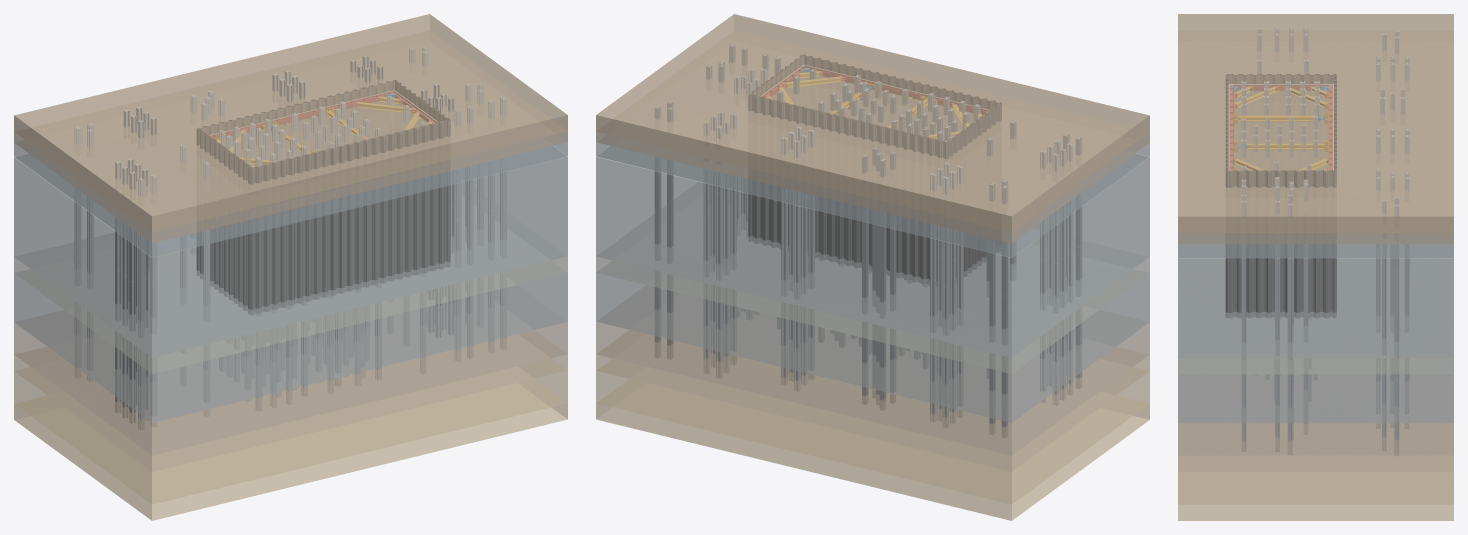
The model's file is sheetpile.glb.
3 renders of one model, left to right at view 1: azimuth 30°, elevation 25°; view 2: azimuth 150°, elevation 25°; view 3: azimuth 270°, elevation 25°, orthographic.
Parts seen in each view (by area): view 1: STS_L3b_SoftClay_-3.8_to_-13.0m, STS_L1_Fill_0_to_-1.5m, STS_L4_StiffClay_-19.0_to_-22.0m, STS_L3d_SoftClay_-14.5_to_-19.0m, STS_L2_MedStiffClay_-1.5_to_-2.5m, STS_L3c_SandLens_-13.0_to_-14.5m, STS_L6_MedSand_-23.5_to_-26.5m, STS_L7_DenseSand_-26.5_to_-28.0m, STS_L5_SandyClay_-22.0_to_-23.5m, STS_L3a_SoftClay_-2.5_to_-3.8m, Excavation_Stage1_L1_0_to_-1.5m, PILE_P90 (+19 smaller); view 2: STS_L3b_SoftClay_-3.8_to_-13.0m, STS_L1_Fill_0_to_-1.5m, STS_L3d_SoftClay_-14.5_to_-19.0m, STS_L4_StiffClay_-19.0_to_-22.0m, STS_L3c_SandLens_-13.0_to_-14.5m, STS_L2_MedStiffClay_-1.5_to_-2.5m, STS_L6_MedSand_-23.5_to_-26.5m, STS_L7_DenseSand_-26.5_to_-28.0m, STS_L5_SandyClay_-22.0_to_-23.5m, STS_L3a_SoftClay_-2.5_to_-3.8m, Excavation_Stage1_L1_0_to_-1.5m, Excavation_Stage2_L2_-1.5_to_-2.5m (+31 smaller); view 3: STS_L1_Fill_0_to_-1.5m, STS_L2_MedStiffClay_-1.5_to_-2.5m, STS_L3b_SoftClay_-3.8_to_-13.0m, STS_L3c_SandLens_-13.0_to_-14.5m, STS_L4_StiffClay_-19.0_to_-22.0m, STS_L3d_SoftClay_-14.5_to_-19.0m, STS_L6_MedSand_-23.5_to_-26.5m, STS_L7_DenseSand_-26.5_to_-28.0m, STS_L5_SandyClay_-22.0_to_-23.5m, Excavation_Stage1_L1_0_to_-1.5m, STS_L3a_SoftClay_-2.5_to_-3.8m, Excavation_Stage2_L2_-1.5_to_-2.5m (+33 smaller).
Part boxes in pixels (x1,y1,x2,y2): STS_L3b_SoftClay_-3.8_to_-13.0m: (14,146,567,357); STS_L1_Fill_0_to_-1.5m: (14,14,567,232); STS_L4_StiffClay_-19.0_to_-22.0m: (14,285,567,455); STS_L3d_SoftClay_-14.5_to_-19.0m: (14,261,567,422); STS_L2_MedStiffClay_-1.5_to_-2.5m: (14,31,567,243); STS_L3c_SandLens_-13.0_to_-14.5m: (14,182,567,373); STS_L6_MedSand_-23.5_to_-26.5m: (14,359,567,504); STS_L7_DenseSand_-26.5_to_-28.0m: (14,379,567,520); STS_L5_SandyClay_-22.0_to_-23.5m: (14,330,567,471); STS_L3a_SoftClay_-2.5_to_-3.8m: (14,134,567,257); Excavation_Stage1_L1_0_to_-1.5m: (200,81,447,167); PILE_P90: (454,109,461,361); STS_L3b_SoftClay_-3.8_to_-13.0m: (596,146,1149,357); STS_L1_Fill_0_to_-1.5m: (596,14,1149,232); STS_L3d_SoftClay_-14.5_to_-19.0m: (596,261,1149,422); STS_L4_StiffClay_-19.0_to_-22.0m: (596,285,1149,455); STS_L3c_SandLens_-13.0_to_-14.5m: (596,182,1149,373); STS_L2_MedStiffClay_-1.5_to_-2.5m: (596,31,1149,243); STS_L6_MedSand_-23.5_to_-26.5m: (596,359,1149,504); STS_L7_DenseSand_-26.5_to_-28.0m: (596,379,1149,520); STS_L5_SandyClay_-22.0_to_-23.5m: (596,330,1149,471); STS_L3a_SoftClay_-2.5_to_-3.8m: (596,135,1149,257); Excavation_Stage1_L1_0_to_-1.5m: (751,56,998,142); Excavation_Stage2_L2_-1.5_to_-2.5m: (771,77,972,132); STS_L1_Fill_0_to_-1.5m: (1178,14,1453,232); STS_L2_MedStiffClay_-1.5_to_-2.5m: (1178,31,1453,243); STS_L3b_SoftClay_-3.8_to_-13.0m: (1178,244,1453,357); STS_L3c_SandLens_-13.0_to_-14.5m: (1178,258,1453,374); STS_L4_StiffClay_-19.0_to_-22.0m: (1178,374,1453,455); STS_L3d_SoftClay_-14.5_to_-19.0m: (1178,358,1453,423); STS_L6_MedSand_-23.5_to_-26.5m: (1178,456,1453,504); STS_L7_DenseSand_-26.5_to_-28.0m: (1178,472,1453,520); STS_L5_SandyClay_-22.0_to_-23.5m: (1178,423,1453,471); Excavation_Stage1_L1_0_to_-1.5m: (1228,75,1333,171); STS_L3a_SoftClay_-2.5_to_-3.8m: (1178,233,1453,257); Excavation_Stage2_L2_-1.5_to_-2.5m: (1234,92,1328,169).
Bounding box in the file's own units: 40 × 28 × 23.
